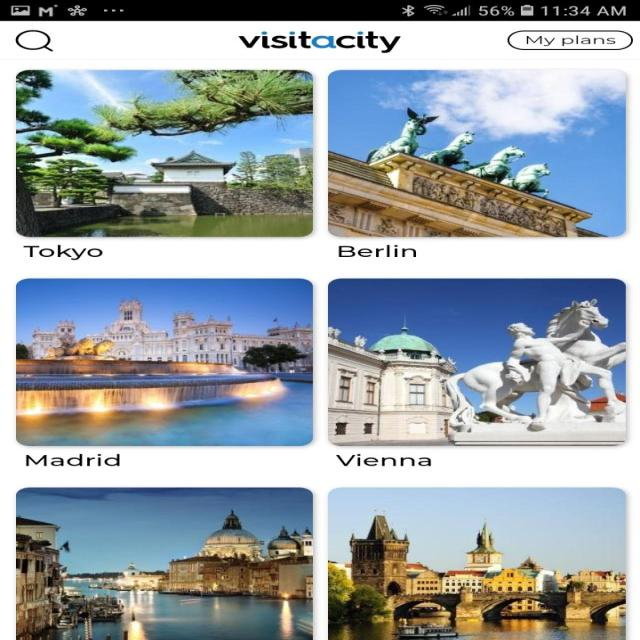Icon: (15, 30, 54, 52)
Image: (327, 278, 626, 446), (15, 278, 313, 446), (327, 70, 626, 237), (15, 70, 313, 237), (327, 486, 625, 640), (16, 486, 313, 640), (237, 31, 402, 52)
Text: (335, 453, 431, 466), (25, 453, 120, 466), (22, 245, 103, 260), (337, 244, 416, 257)
TextButton: (507, 30, 632, 49)
